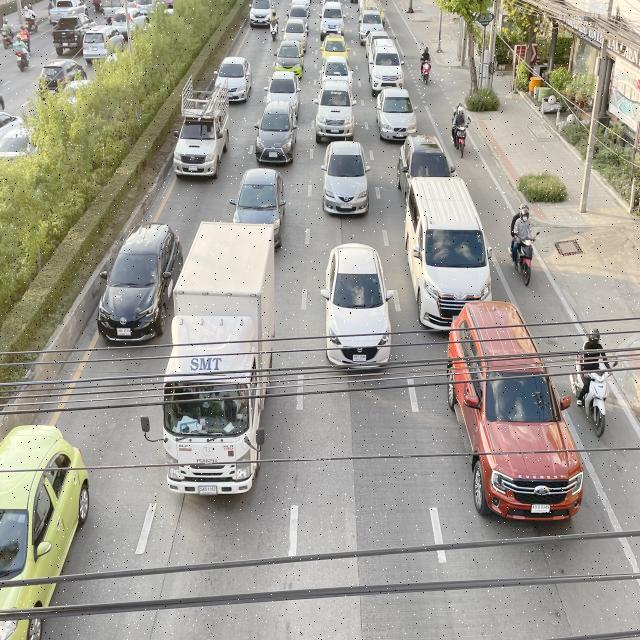bike: (569, 314, 616, 438), (505, 195, 542, 294), (446, 92, 474, 164)
truck: (139, 218, 279, 500), (169, 68, 232, 191)
